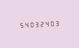five: (17, 21, 21, 28)
four: (22, 20, 26, 28), (42, 19, 46, 27)
three: (32, 20, 36, 28), (52, 19, 56, 27)
two: (37, 20, 41, 27)
zero: (27, 20, 31, 28), (47, 19, 51, 27)
